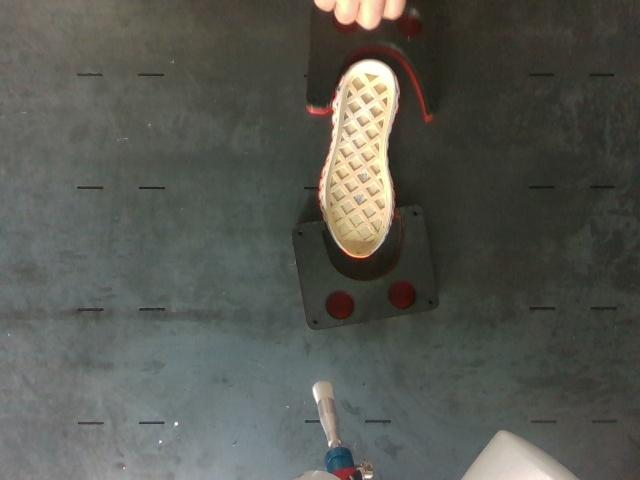shoes: (325, 62, 394, 257)
